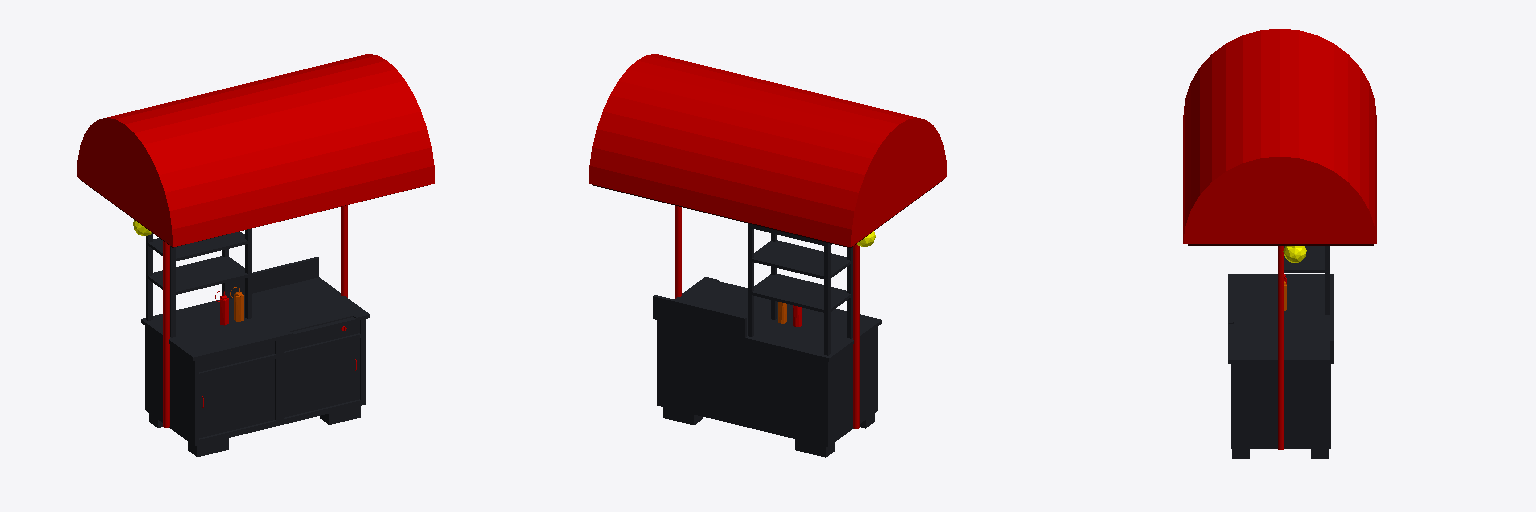
File: barraca.obj
3 views of the same model, side by side, from view 1: azimuth 30°, elevation 25°; view 2: azimuth 150°, elevation 25°; view 3: azimuth 270°, elevation 25° (orthographic).
Visible parts, largest first — view 1: Cylinder.001, Cube_Cube.005, Cube.001, Cube.003, Cylinder, Cube.004; view 2: Cylinder.001, Cube_Cube.005, Cube.001, Cylinder, Cube.003, Cube.004; view 3: Cylinder.001, Cube_Cube.005, Cube.003, Cylinder, Cube.001.
Boxes of the visible parts, <box> form: Cylinder.001: <box>77,54,434,246</box>; Cube_Cube.005: <box>141,257,369,445</box>; Cube.001: <box>146,229,251,337</box>; Cube.003: <box>252,287,353,349</box>; Cylinder: <box>163,205,347,427</box>; Cube.004: <box>149,406,360,456</box>; Cylinder.001: <box>589,54,946,246</box>; Cube_Cube.005: <box>653,277,881,446</box>; Cube.001: <box>748,223,852,355</box>; Cylinder: <box>675,206,859,428</box>; Cube.003: <box>688,282,770,320</box>; Cube.004: <box>663,407,874,457</box>; Cylinder.001: <box>1183,29,1376,243</box>; Cube_Cube.005: <box>1228,274,1333,448</box>; Cube.003: <box>1234,322,1311,353</box>; Cylinder: <box>1278,246,1283,449</box>; Cube.001: <box>1284,246,1329,314</box>.
Size of the model in its own units: 6.07 by 7.23 by 3.87.